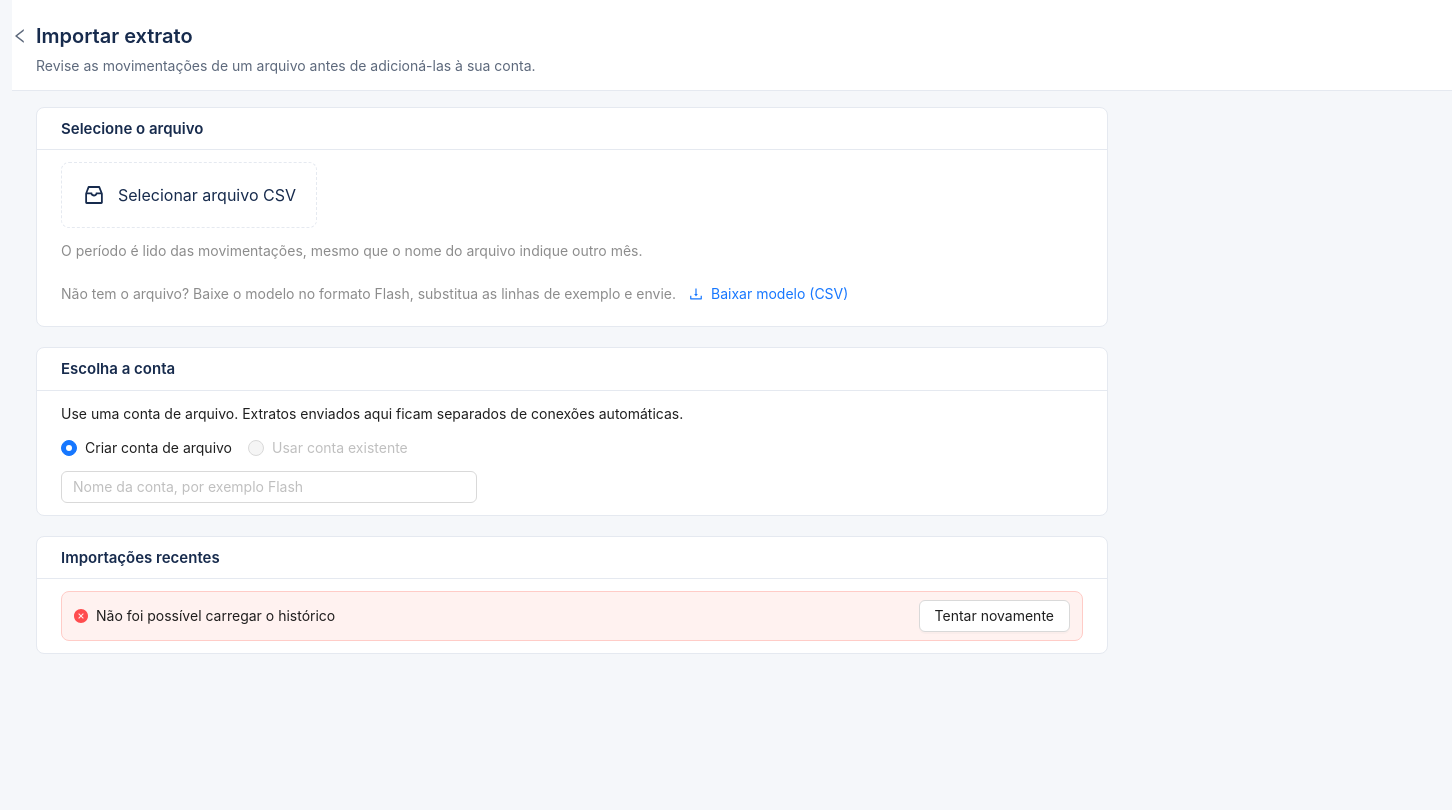
it: StatementImportPage › list failures › shows the history as unavailable, not empty, and retries only the history
The image size is (1452, 810).
Expected: the text "Não foi possível carregar o histórico" is shown, [96,607,335,624]
What coordinates should you click on to do the following:
click the button "Tentar novamente"
I would click on:
 (994, 616)
Its box is [918,600,1070,632].
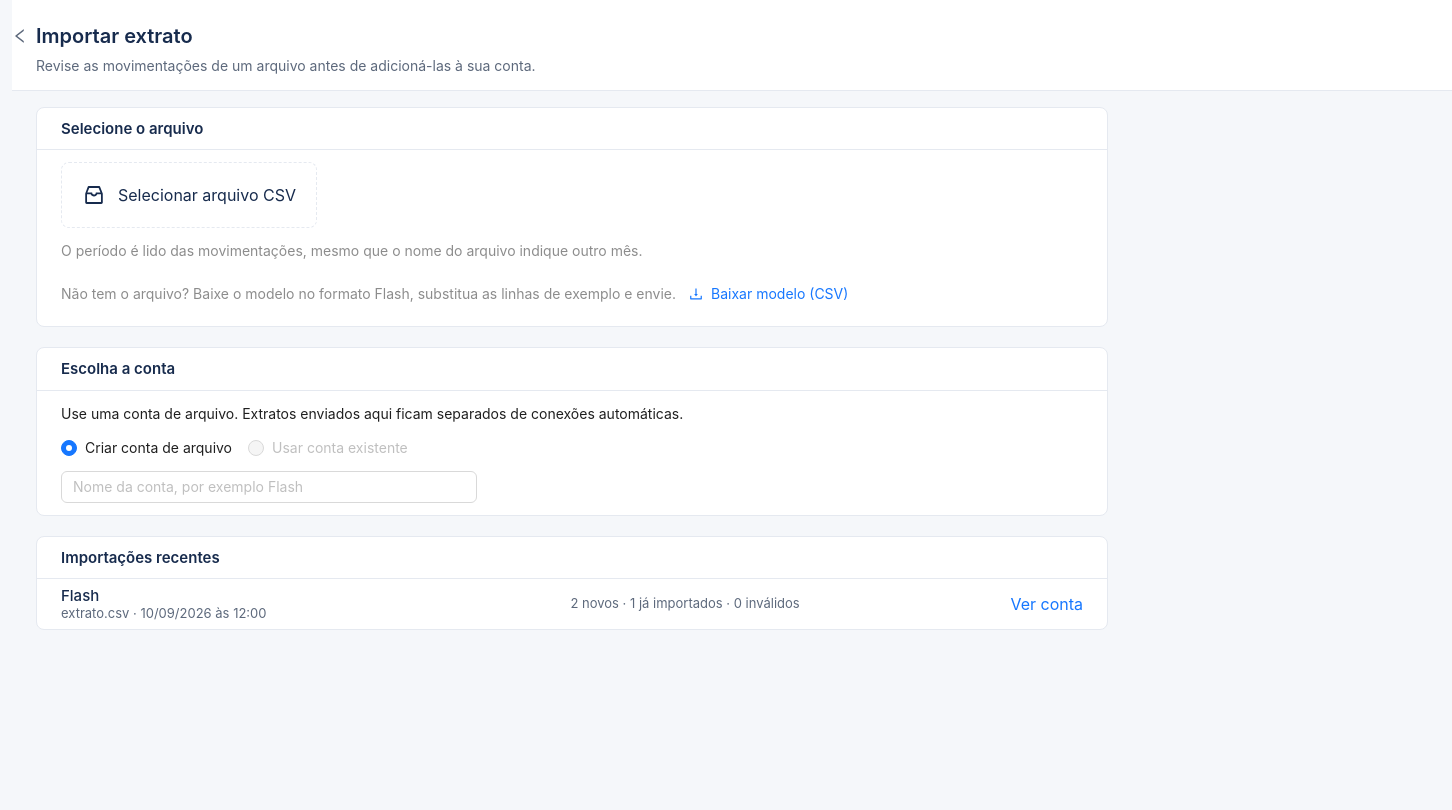
Now the text "extrato.csv · 10/09/2026 às 12:00" is shown, box [61,605,266,621]
